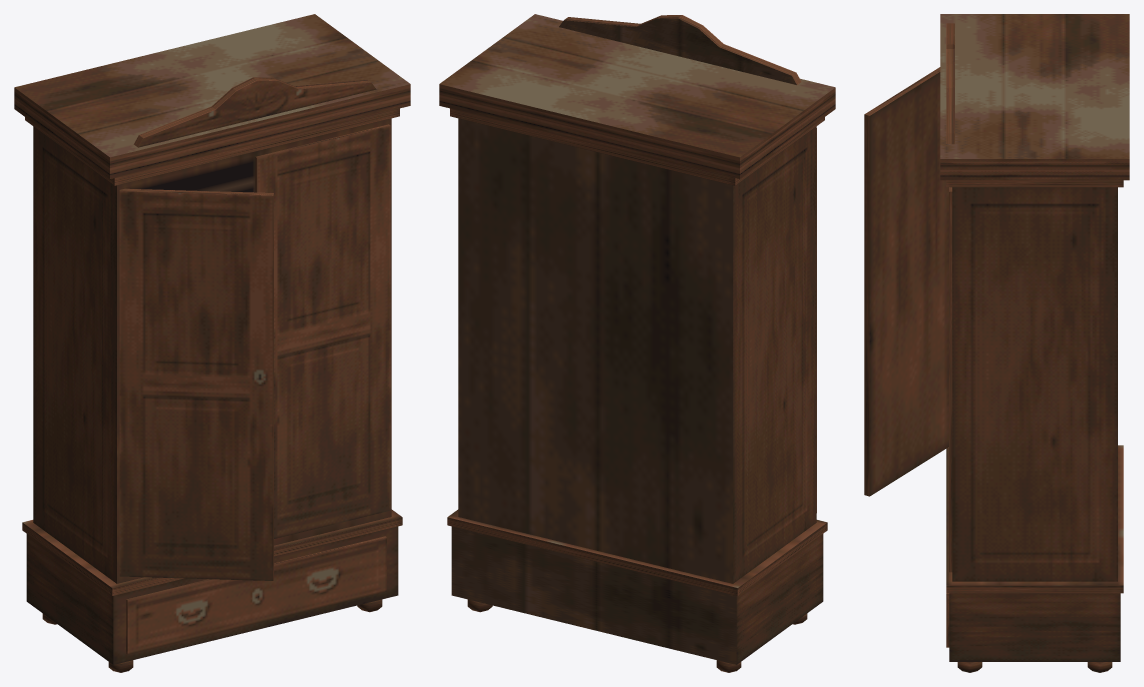
File: wardrobe.obj
3 renders of one model, left to right at view 1: azimuth 30°, elevation 25°; view 2: azimuth 150°, elevation 25°; view 3: azimuth 270°, elevation 25°, orthographic.
Visible parts, largest first — view 1: wardrobe; view 2: wardrobe; view 3: wardrobe.
Part boxes in pixels (x1,y1,x2,y2): wardrobe: [14, 14, 410, 672]; wardrobe: [439, 14, 835, 672]; wardrobe: [864, 14, 1129, 672].
Bounding box in the file's own units: 1.16 × 2.09 × 0.8971.
Materials: 1 (1 with a texture image).
